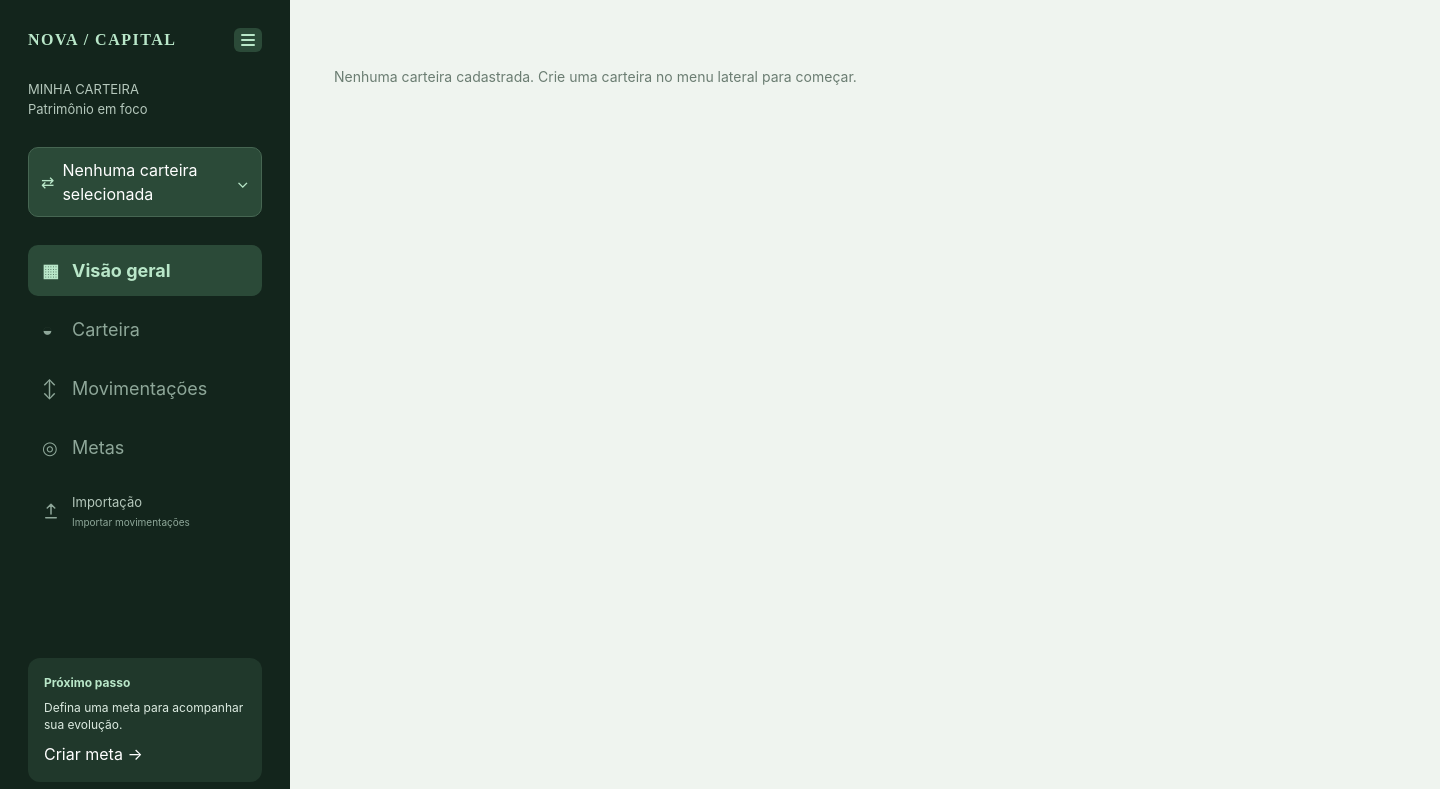
I4 — seleção e carregamento › lista vazia é válida, impede importação sem destino e permite criar a primeira carteira
The image size is (1440, 789).
Expected: the text "Nenhuma carteira cadastrada. Crie uma carteira no menu lateral para começar." is shown, [334, 68, 857, 85]
Click the button with aria-label "Importação: importar": (145, 511) [28, 481, 262, 542]
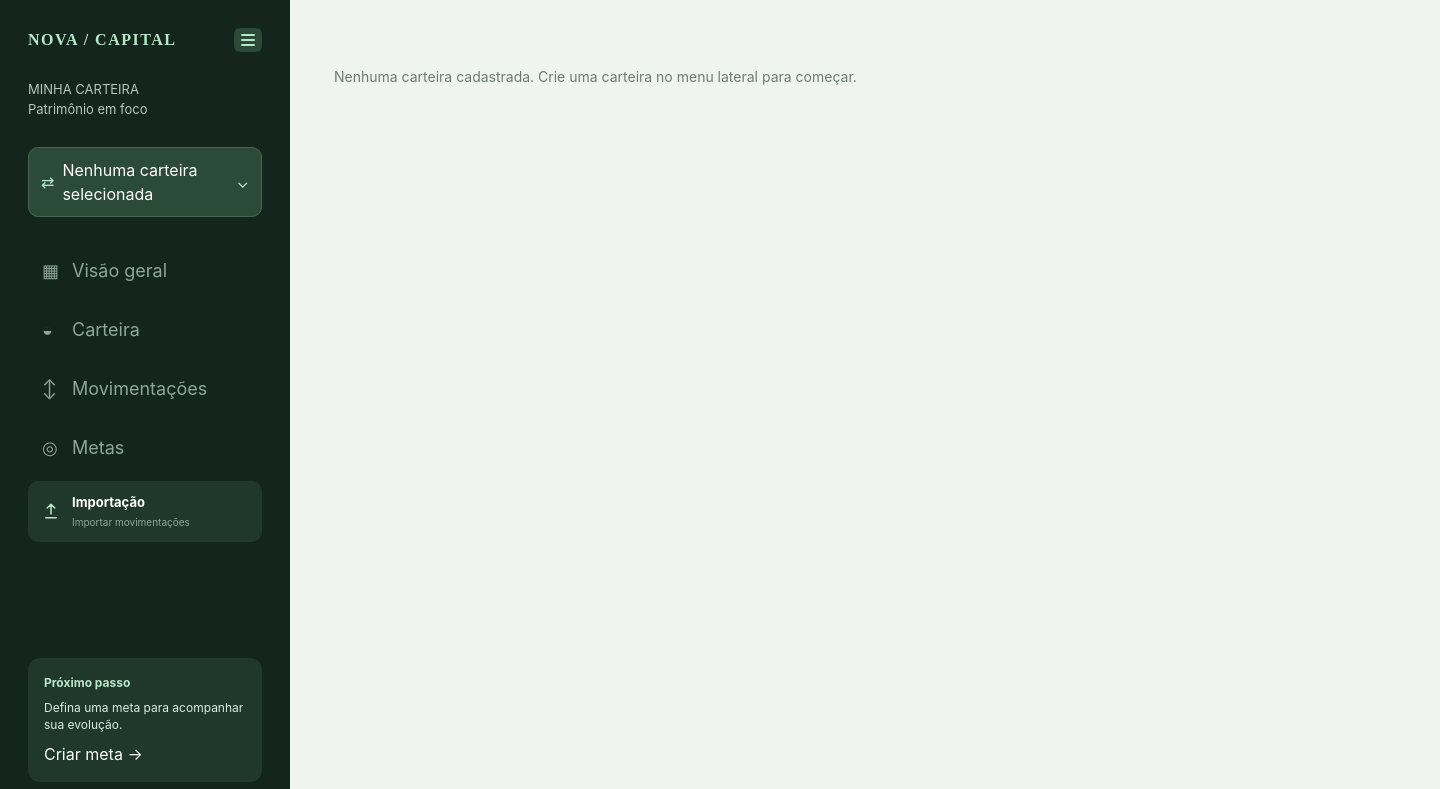
Click the button "⇄ Nenhuma carteira selecionada ⌄": (145, 182) [28, 147, 262, 217]
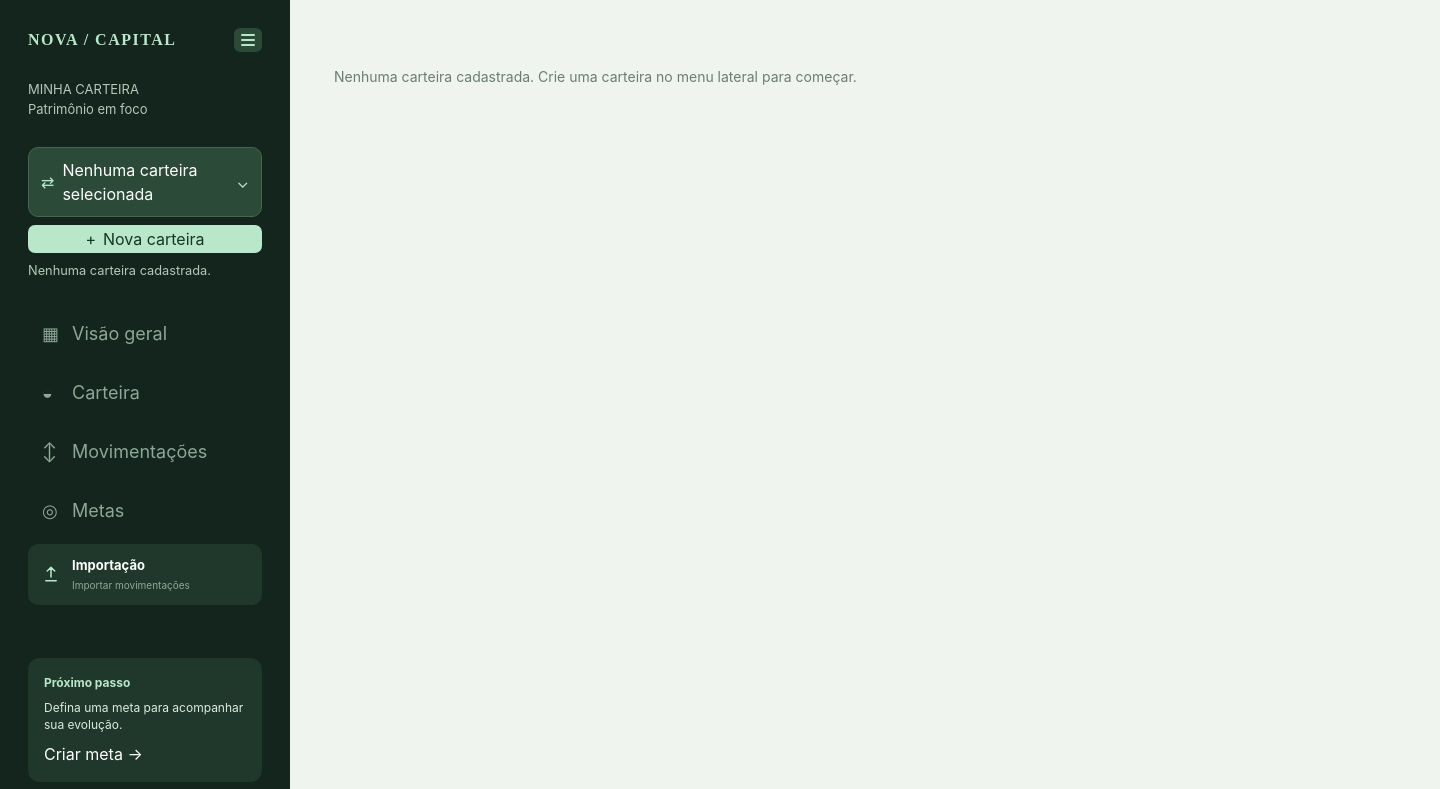
Click the button "+ Nova carteira": (145, 239) [28, 225, 262, 253]
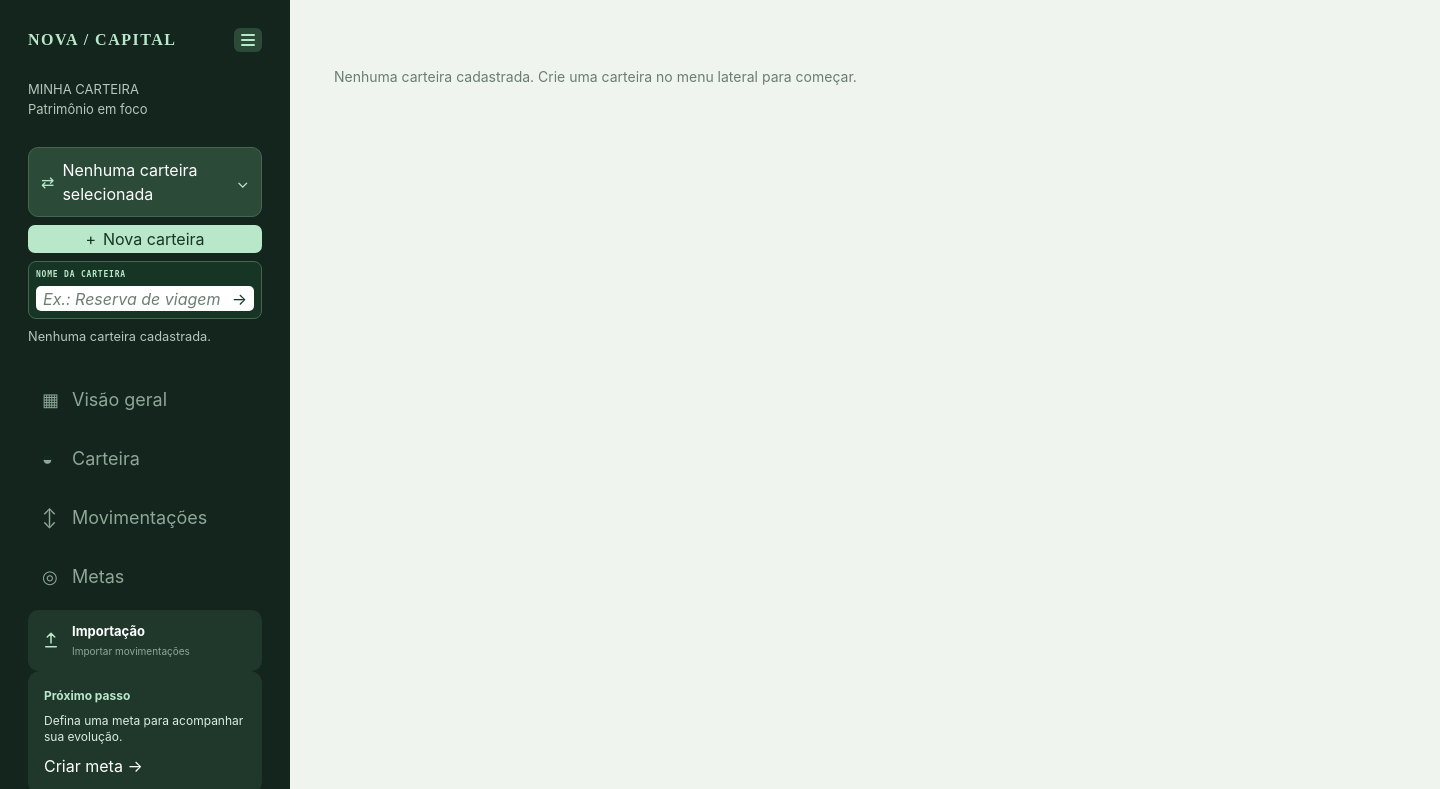
In the field labelled "NOME DA CARTEIRA": (134, 298) [43, 286, 225, 310], type "Reserva"
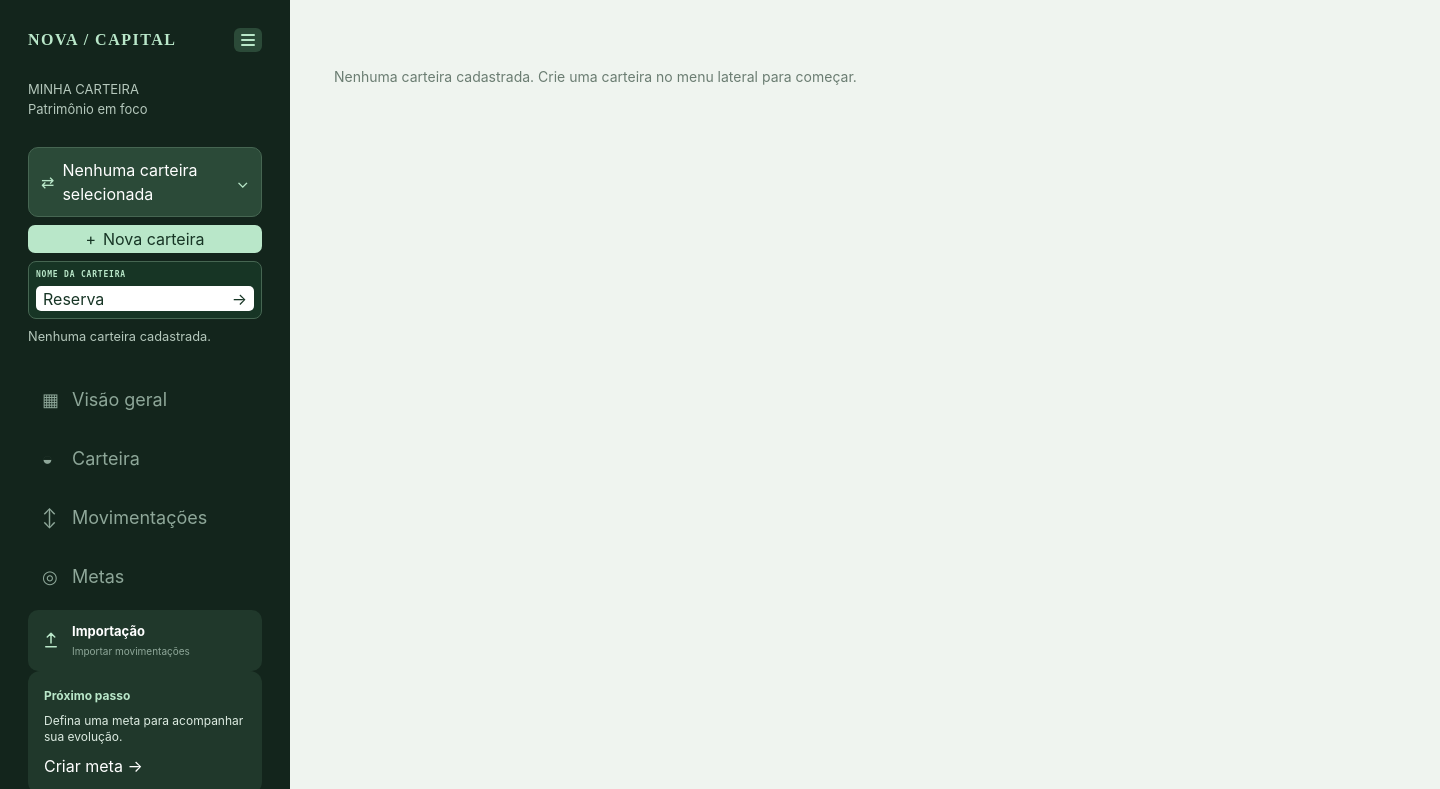
Click the button named "Criar carteira": (239, 298) [225, 286, 254, 311]
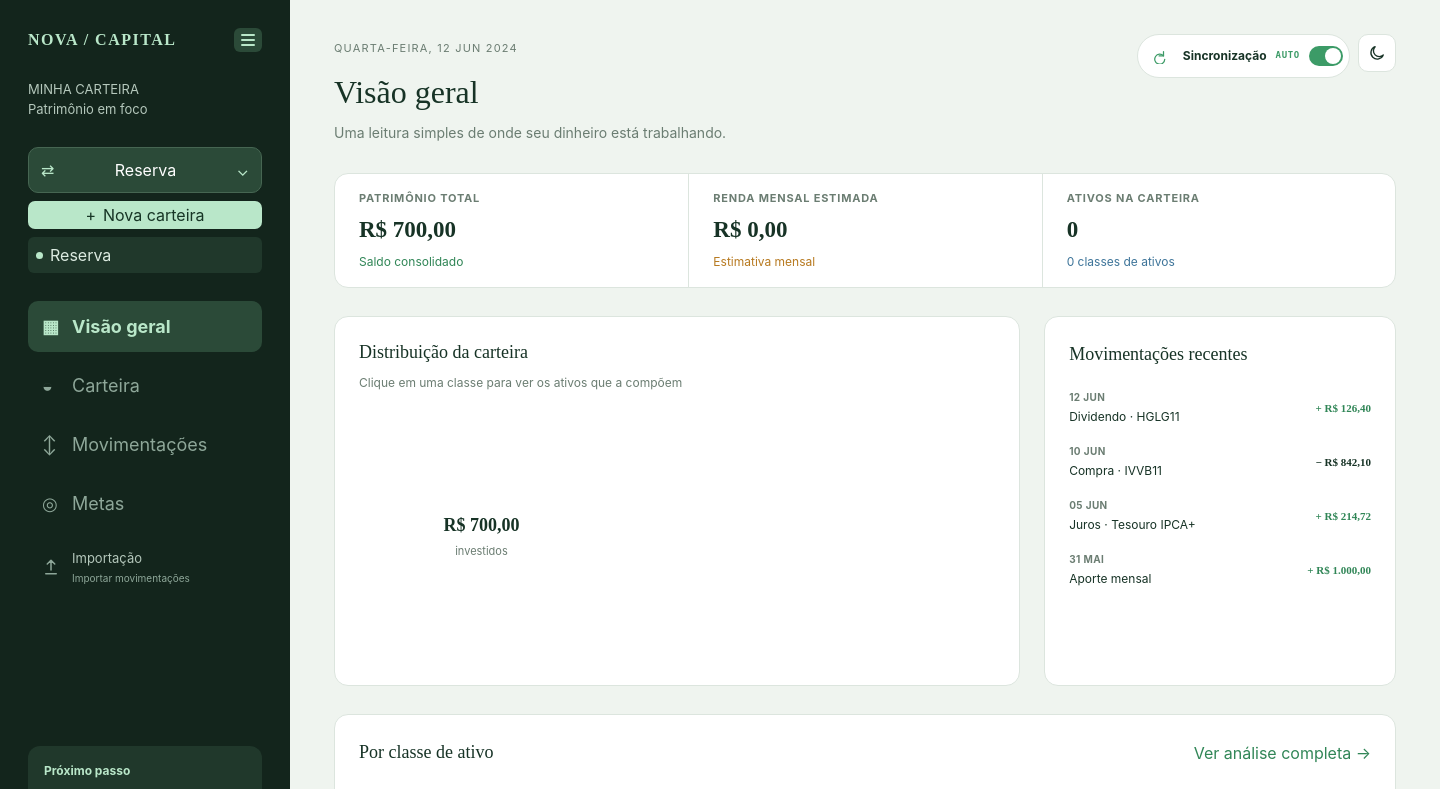
Expected: the element named "Resumo da carteira" is shown, [334, 173, 1396, 288]
